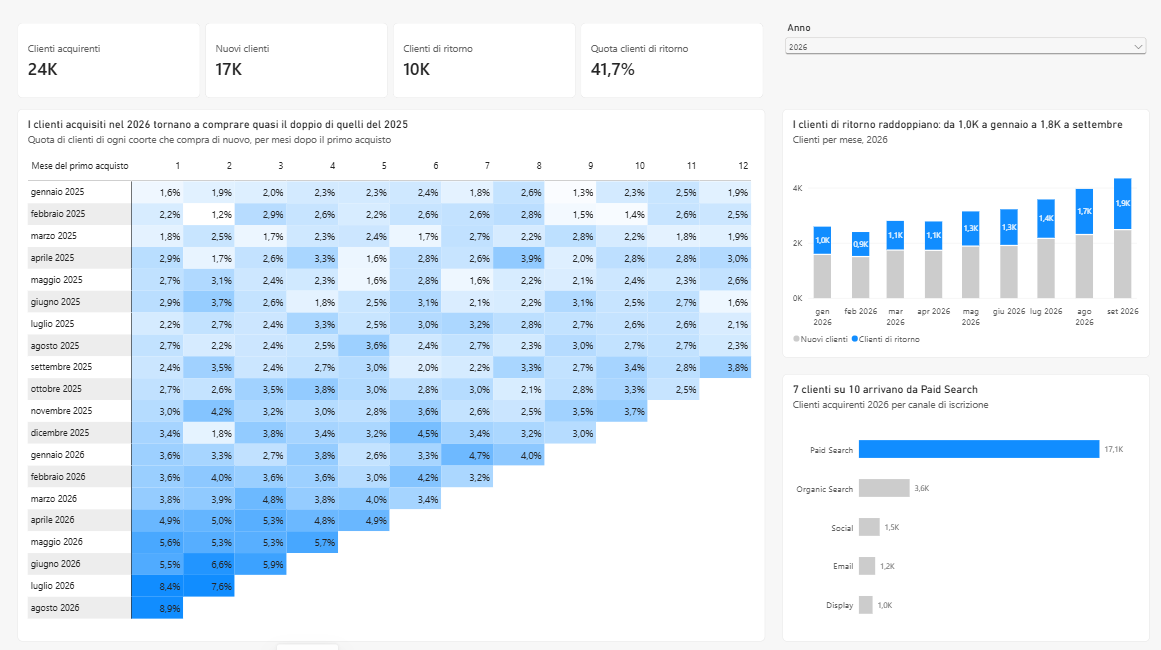

Layout of this report page (visuals, bound fields, positions):
{"tool":"powerbi","page":{"name":"Clienti","canvas":[1920,1080],"ordinal":1},"visuals":[{"type":"slicer","fields":{"Values":["dim_date.year"]},"box":[1288.5,38,604.4,61.5],"z":0},{"type":"cardVisual","title":"Var % vs 2025 (gen–ott)","fields":{"Data":["_Misure.Clienti acquirenti","_Misure.Nuovi clienti","_Misure.Clienti di ritorno","_Misure.Quota clienti di ritorno"]},"box":[28,40,1230,124],"z":1000},{"type":"columnChart","title":"I clienti di ritorno raddoppiano: da 1,0K a gennaio a 1,8K a settembre","fields":{"Category":["dim_date.month_start"],"Y":["_Misure.Nuovi clienti","_Misure.Clienti di ritorno"]},"box":[1288.5,181.1,605.1,409.6],"z":2000},{"type":"clusteredBarChart","title":"7 clienti su 10 arrivano da Paid Search","fields":{"Category":["dim_users.signup_channel"],"Y":["_Misure.Clienti acquirenti"]},"box":[1288.5,617.5,605.1,440.5],"z":3000},{"type":"pivotTable","title":"I clienti acquisiti nel 2026 tornano a comprare quasi il doppio di quelli del 2025","fields":{"Columns":["fct_orders.months_since_first_order"],"Rows":["dim_users.cohort_month"],"Values":["_Misure.Retention %"]},"box":[28.8,181.1,1230.9,876.8],"z":4000}]}

Visuals, with their boxes in screenshot pixels (x1, y1, x2, y2), scaled from the page's 1920x1080 canvas onto the 1161x650 screenshot:
slicer - dim_date.year: (779, 23, 1145, 60)
"Var % vs 2025 (gen–ott)" cardVisual: (17, 24, 761, 99)
"I clienti di ritorno raddoppiano: da 1,0K a gennaio a 1,8K a settembre" columnChart: (779, 109, 1145, 356)
"7 clienti su 10 arrivano da Paid Search" clusteredBarChart: (779, 372, 1145, 637)
"I clienti acquisiti nel 2026 tornano a comprare quasi il doppio di quelli del 2025" pivotTable: (17, 109, 762, 637)
